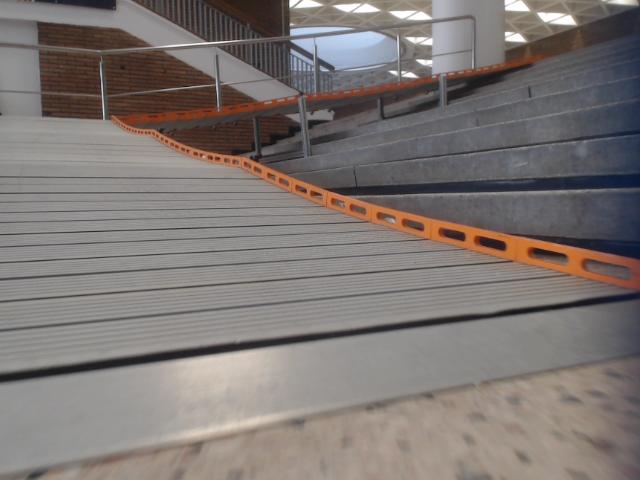rampUp: (0, 117, 639, 474)
ramps-railing: (0, 16, 478, 116), (0, 48, 473, 99)
